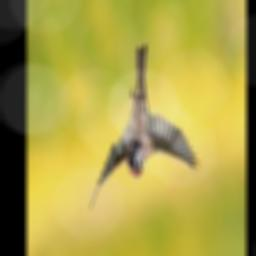Sparrow: (91, 44, 201, 212)
